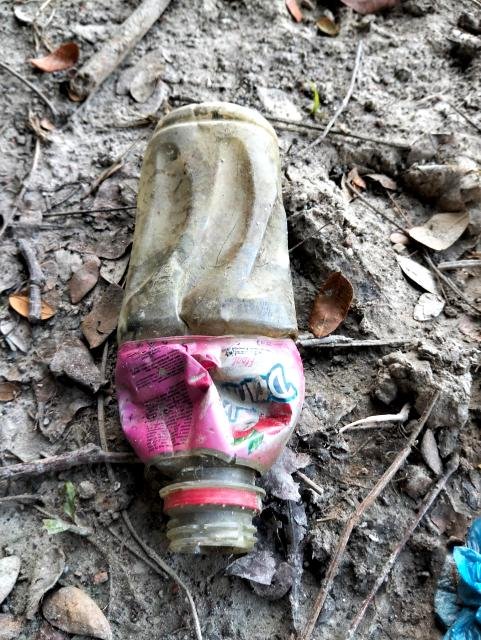bottle: (129, 101, 288, 568)
